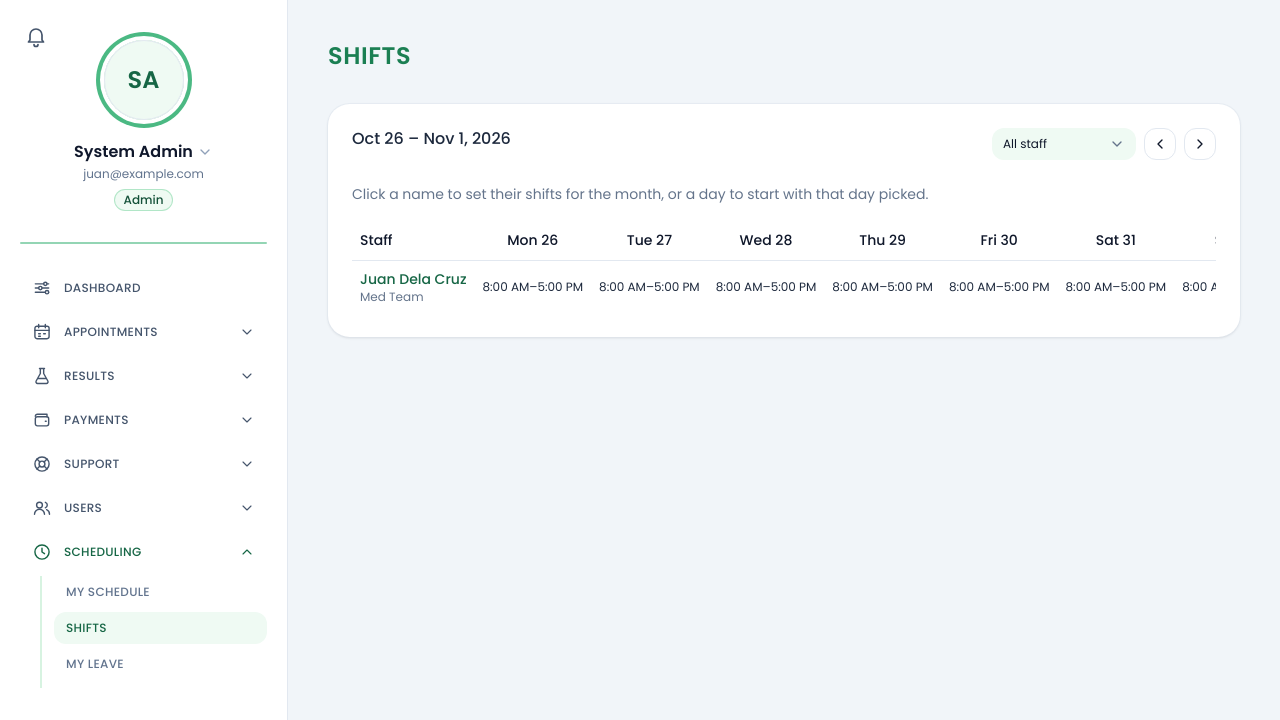
ShiftsPage › sets the same hours on every weekday of the month, skipping holidays
Step 1. Click the button "Juan Dela Cruz" → (413, 278), box [360,268,466,288]
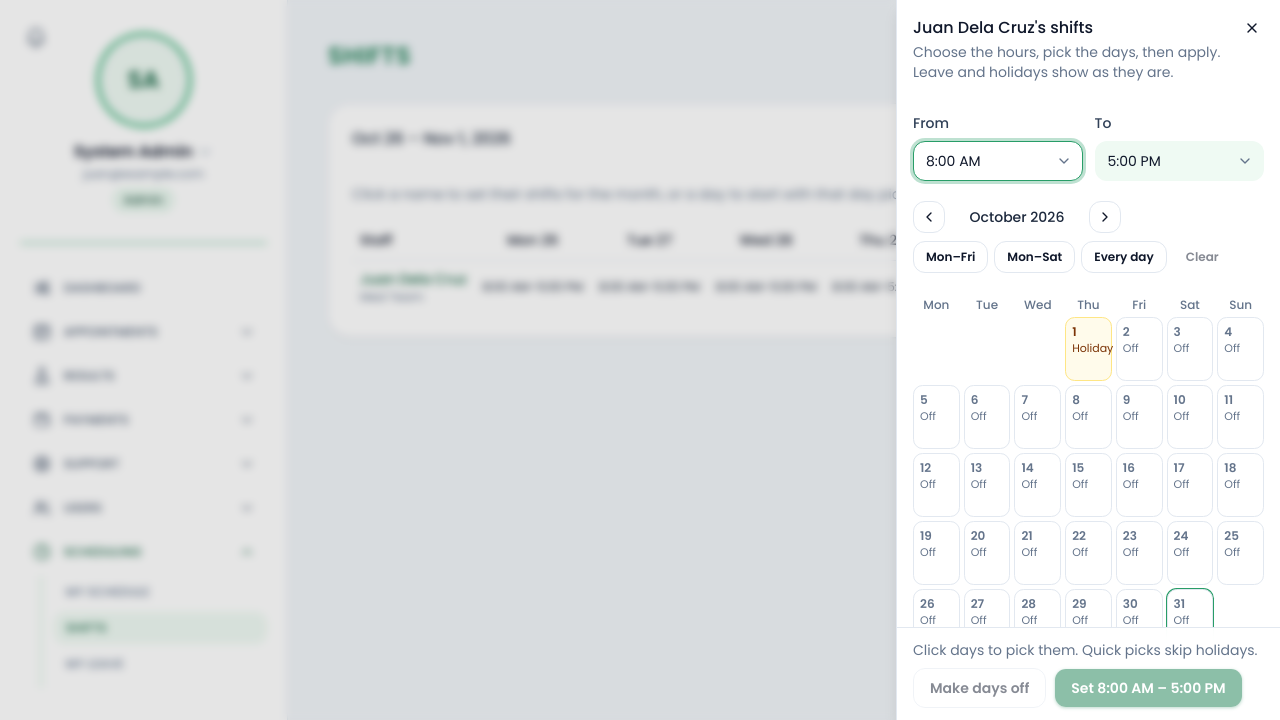
Step 2. Click the dropdown named "From" → (998, 161), box [913,141,1082,181]
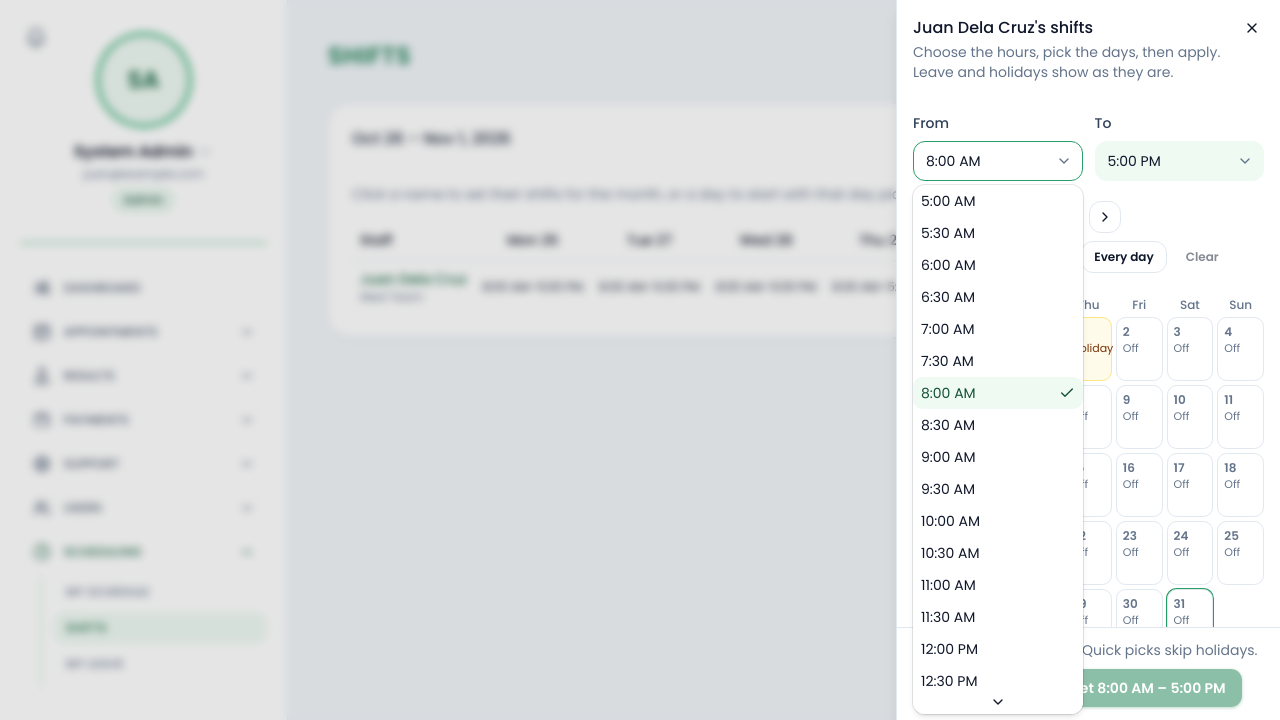
Step 3. Click the option "7:00 AM" → (948, 329), box [921,319,974,339]
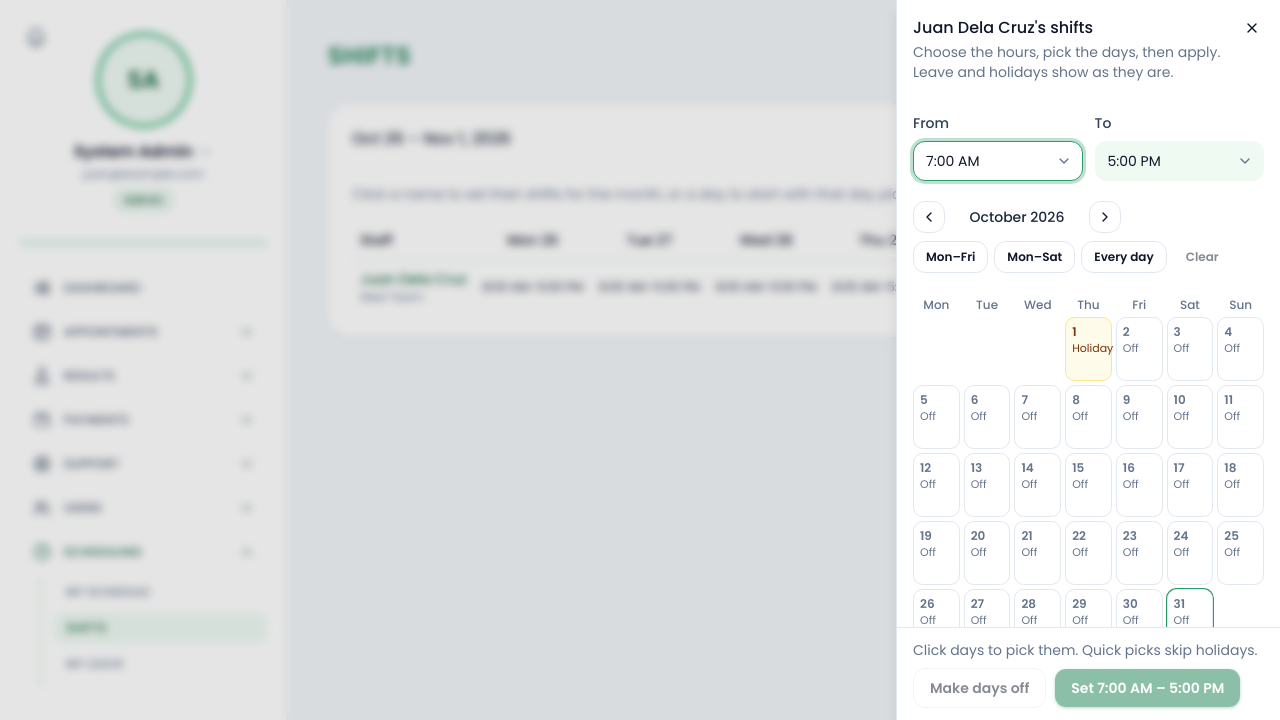
Step 4. Click the button "Mon–Fri" → (951, 257), box [913,241,988,273]
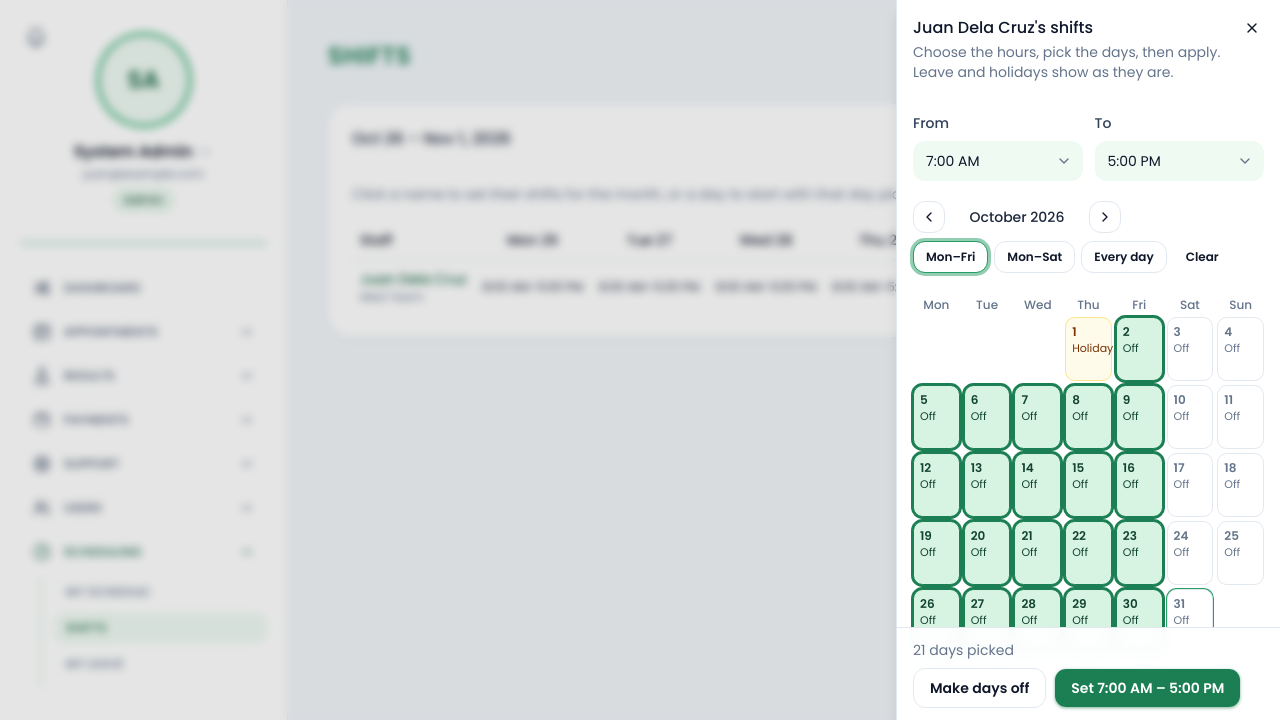
Step 5. Click the button "Set 7:00 AM – 5:00 PM" → (1148, 688), box [1054,668,1241,708]
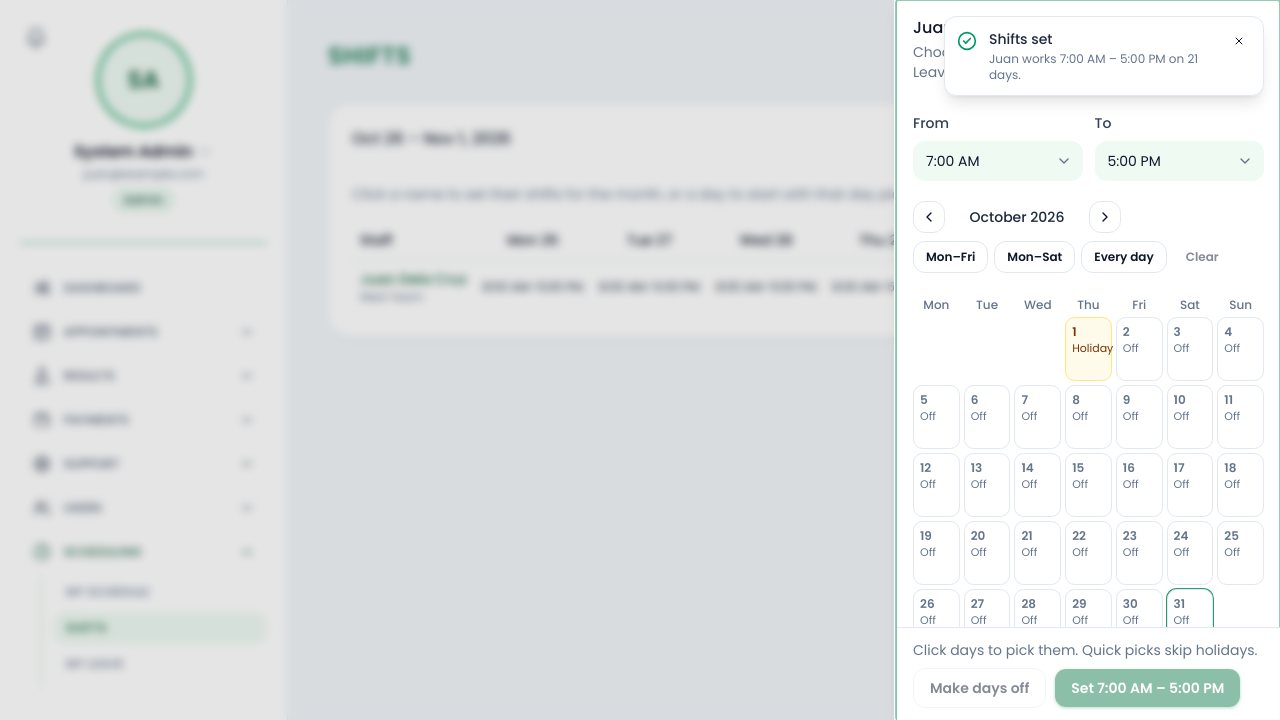
Result: the text "Shifts set" is shown at [989,29,1052,49]
